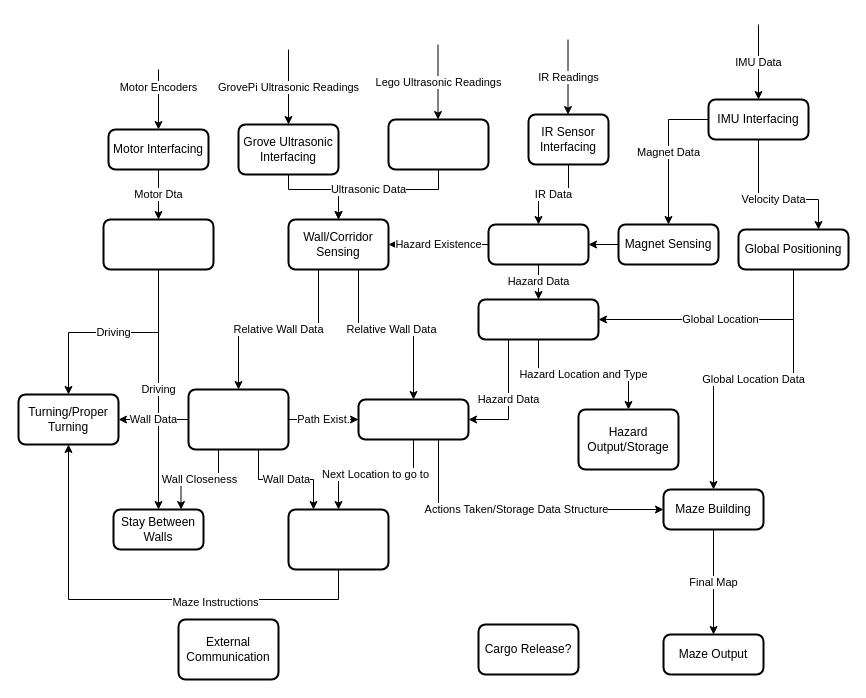
This 866x698 diagram has some shape labels left out. The shapes that lost their labels are listed below. From the top down, each one's box as (x1, y1, x2, y2) in pixels, then its label:
(387, 118, 489, 170): Lego Ultrasonic Interfacing
(102, 218, 214, 270): Driving/Propulsion
(487, 223, 589, 265): Hazard Sensing
(477, 298, 599, 340): Hazard Processing
(187, 388, 289, 450): Wall/Corridor Processing
(357, 398, 469, 440): Maze Navigation
(287, 508, 389, 570): Maze Output to Navigational Instructions
